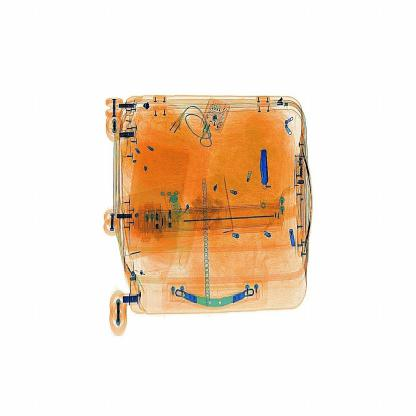knife: (252, 134, 278, 195)
